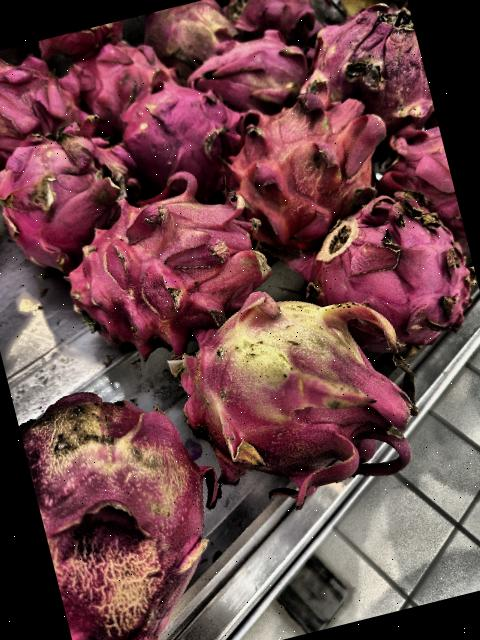buah-naga-belum-matang: (164, 268, 442, 526), (12, 356, 245, 640), (220, 72, 412, 242), (300, 0, 434, 134), (199, 20, 316, 114), (144, 0, 238, 68)
buah-naga-matang: (50, 159, 280, 353), (291, 178, 480, 369), (105, 57, 248, 205), (0, 112, 135, 256), (0, 33, 103, 169), (53, 34, 186, 128), (380, 115, 460, 222), (222, 0, 313, 46)
